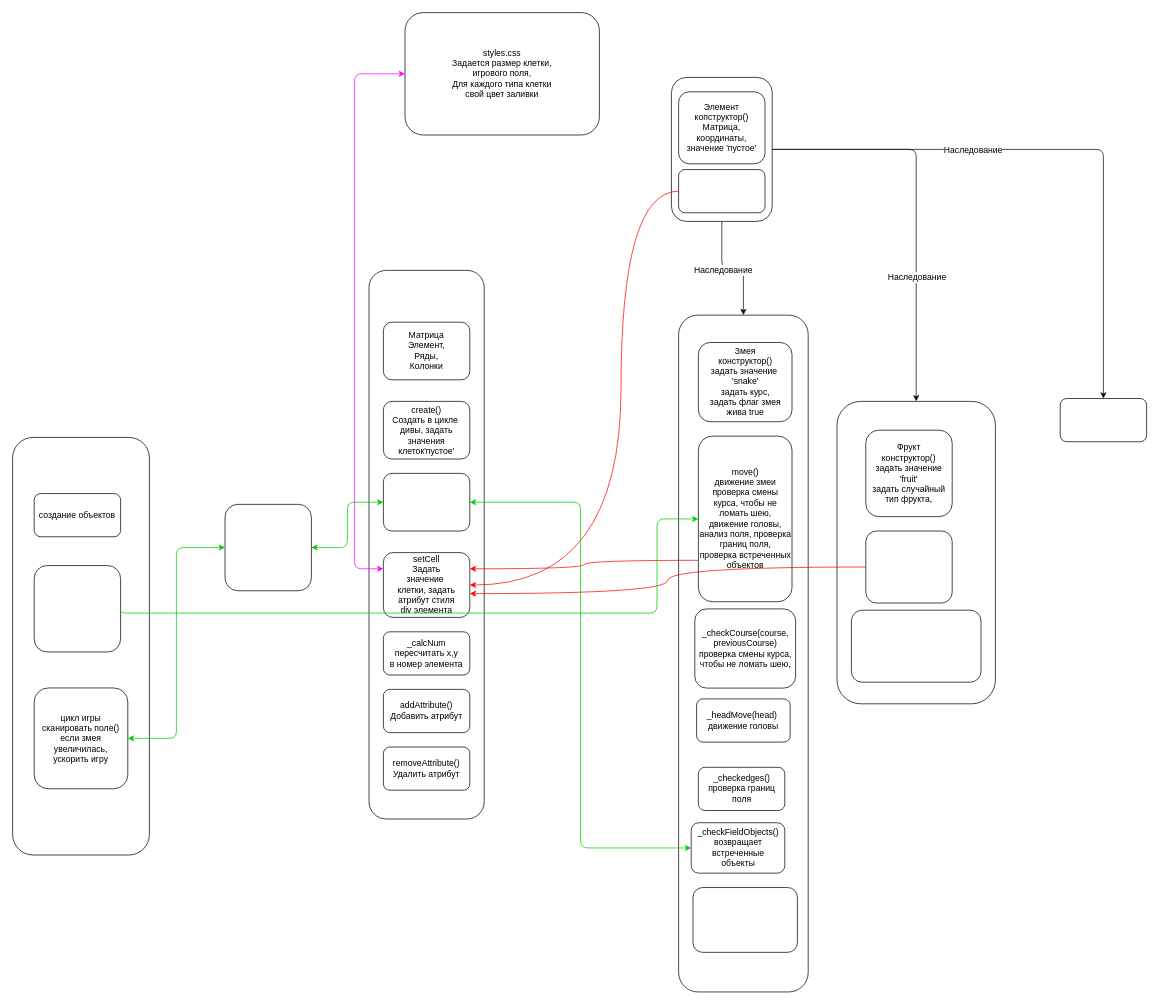
Some shapes in this 1159 by 1005 pixel diagram are drawn without their labels. The shapes that lost their labels are listed below. From the top down, each one's centre as x and y in pixels, then its label:
At point (721, 191): "show() показать элемент на Матрице".
At point (1103, 420): "Стена задать значение 'wall'".
At point (426, 502): "getCell Запросить значение клетки".
At point (267, 547): "Сканирование поля Найти элемент() Найти, сколько раз элемент встречается()".
At point (908, 566): "show() Переопределить унаследованный метод show() Задать атрибут на матрице".
At point (77, 608): "обработка нажатия клавиш, передаем курс Змеи".
At point (916, 645): "_getRandomArrayValue(array) получить случайный элемент из массива".
At point (744, 919): "_analyseEnvironment() анализ поля, проверка встреченных объектов".
